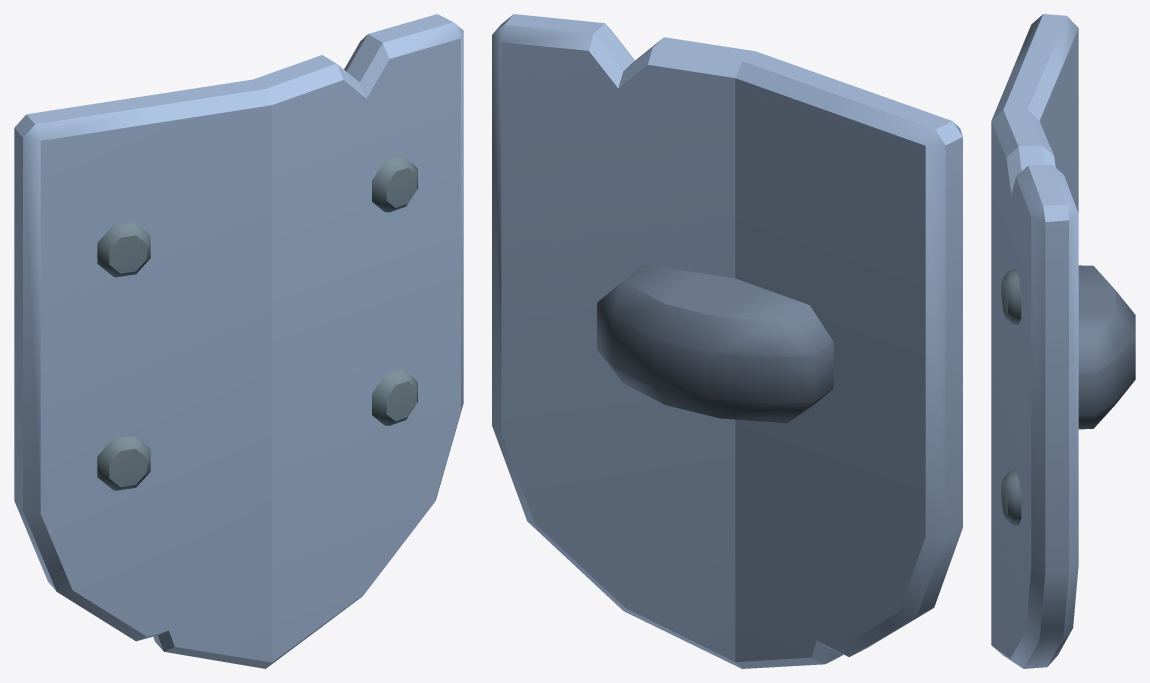
The model's file is shield_A__ESCUDO_PEDRA.glb.
3 renders of one model, left to right at view 1: azimuth 30°, elevation 25°; view 2: azimuth 150°, elevation 25°; view 3: azimuth 270°, elevation 25°, orthographic. The views are drawn at different scales.
Visible parts, largest first — view 1: shield_A; view 2: shield_A; view 3: shield_A.
Part boxes in pixels (x1=…): shield_A: x1=14, y1=14, x2=463, y2=668; shield_A: x1=492, y1=14, x2=962, y2=668; shield_A: x1=991, y1=14, x2=1135, y2=668.
Bounding box in the file's own units: 0.7726 × 0.9799 × 0.233.
Materials: 1 (1 with a texture image).
